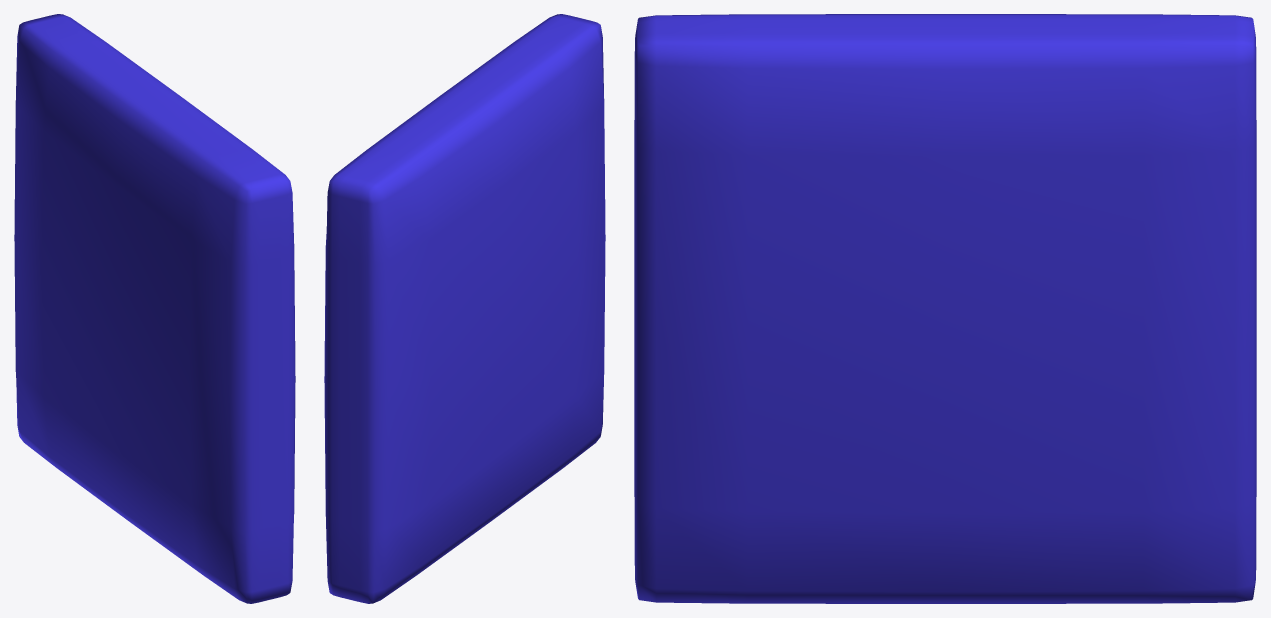
File: Duvar1x.fbx
3 renders of one model, left to right at view 1: azimuth 30°, elevation 25°; view 2: azimuth 150°, elevation 25°; view 3: azimuth 270°, elevation 25°, orthographic. The views are drawn at different scales.
Visible parts, largest first — view 1: Duvar1x; view 2: Duvar1x; view 3: Duvar1x.
Part boxes in pixels (x1,y1,x2,y2): Duvar1x: (14, 14, 295, 603); Duvar1x: (324, 14, 605, 603); Duvar1x: (634, 14, 1256, 603).
Size of the model in its own units: 41.87 by 200 by 200.
